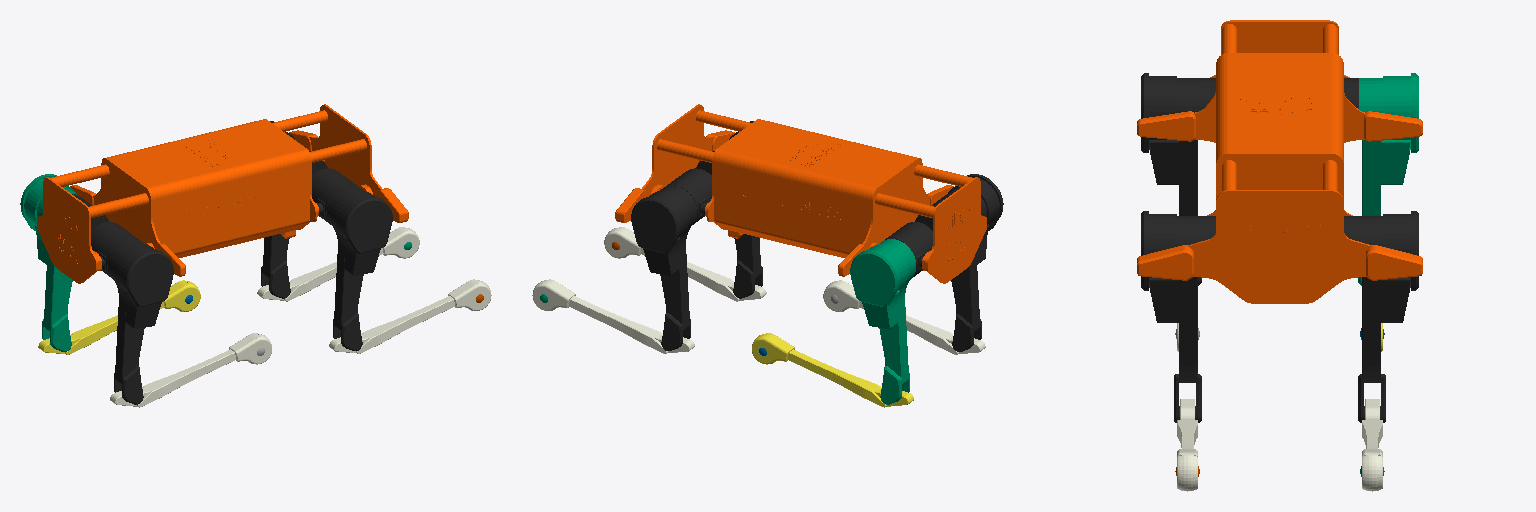
robot.urdf — laikago:
<?xml version="1.0" ?>
<!-- =================================================================================== -->
<!-- |    This document was autogenerated by xacro from robot.xacro                    | -->
<!-- |    EDITING THIS FILE BY HAND IS NOT RECOMMENDED                                 | -->
<!-- =================================================================================== -->
<robot name="laikago" xmlns:xacro="http://www.ros.org/wiki/xacro">
  <material name="black">
    <color rgba="0.0 0.0 0.0 1.0"/>
  </material>
  <material name="blue">
    <color rgba="0.0 0.0 0.8 1.0"/>
  </material>
  <material name="green">
    <color rgba="0.0 0.8 0.0 1.0"/>
  </material>
  <material name="grey">
    <color rgba="0.2 0.2 0.2 1.0"/>
  </material>
  <material name="silver">
    <color rgba="0.913725490196 0.913725490196 0.847058823529 1.0"/>
  </material>
  <material name="orange">
    <color rgba="1.0 0.423529411765 0.0392156862745 1.0"/>
  </material>
  <material name="brown">
    <color rgba="0.870588235294 0.811764705882 0.764705882353 1.0"/>
  </material>
  <material name="red">
    <color rgba="0.8 0.0 0.0 1.0"/>
  </material>
  <material name="white">
    <color rgba="1.0 1.0 1.0 1.0"/>
  </material>

  <link name="trunk">
    <visual>
      <origin rpy="0 0 0" xyz="0 0 0"/>
      <geometry>
        <mesh filename="package://example-robot-data/robots/laikago_description/meshes/trunk.obj" scale="1 1 1"/>
      </geometry>
      <material name="orange"/>
    </visual>
    <collision>
      <origin rpy="0 0 0" xyz="0 0 0.01675"/>
      <geometry>
        <box size="0.5616 0.172 0.1875"/>
      </geometry>
    </collision>
    <inertial>
      <origin rpy="0 0 0" xyz="0.002284 -4.1e-05 0.025165"/>
      <mass value="13.733"/>
      <inertia ixx="0.073348887" ixy="0.00030338" ixz="0.001918218" iyy="0.250684593" iyz="-7.5402e-05" izz="0.254469458"/>
    </inertial>
  </link>
  <joint name="FR_hip_joint" type="revolute">
    <origin rpy="0 0 0" xyz="0.21935 -0.0875 0"/>
    <parent link="trunk"/>
    <child link="FR_hip"/>
    <axis xyz="1 0 0"/>
    <dynamics damping="0" friction="0"/>
    <limit effort="20" lower="-1.0471975512" upper="0.872664625997" velocity="52.4"/>
  </joint>
  <link name="FR_hip">
    <visual>
      <origin rpy="3.14159265359 0 0" xyz="0 0 0"/>
      <geometry>
        <mesh filename="package://example-robot-data/robots/laikago_description/meshes/hip.obj" scale="1 1 1"/>
      </geometry>
      <material name="grey"/>
    </visual>
    <collision>
      <origin rpy="1.57079632679 0 0" xyz="0 0.021 0"/>
      <geometry>
        <cylinder length="0.08" radius="0.041"/>
      </geometry>
    </collision>
    <inertial>
      <origin rpy="0 0 0" xyz="-0.001568 0.008134 0.000864"/>
      <mass value="1.096"/>
      <inertia ixx="0.000822113" ixy="4.982e-06" ixz="-3.672e-05" iyy="0.000983196" iyz="-2.811e-06" izz="0.000864753"/>
    </inertial>
  </link>
  <joint name="FR_hip_fixed" type="fixed">
    <origin rpy="0 0 0" xyz="0 -0.059 0"/>
    <parent link="FR_hip"/>
    <child link="FR_thigh_shoulder"/>
  </joint>
  <!-- this link is only for collision -->
  <link name="FR_thigh_shoulder">
    <collision>
      <origin rpy="1.57079632679 0 0" xyz="0 0 0"/>
      <geometry>
        <cylinder length="0.08" radius="0.044"/>
      </geometry>
    </collision>
  </link>
  <joint name="FR_thigh_joint" type="revolute">
    <origin rpy="0 0 0" xyz="0 -0.037 0"/>
    <parent link="FR_hip"/>
    <child link="FR_thigh"/>
    <axis xyz="0 1 0"/>
    <dynamics damping="0" friction="0"/>
    <limit effort="55" lower="-0.523598775598" upper="3.92699081699" velocity="28.6"/>
  </joint>
  <link name="FR_thigh">
    <visual>
      <origin rpy="0 0 0" xyz="0 0 0"/>
      <geometry>
        <mesh filename="package://example-robot-data/robots/laikago_description/meshes/thigh_mirror.obj" scale="1 1 1"/>
      </geometry>
      <material name="grey"/>
    </visual>
    <collision>
      <origin rpy="0 1.57079632679 0" xyz="0 0 -0.125"/>
      <geometry>
        <box size="0.25 0.034 0.043"/>
      </geometry>
    </collision>
    <inertial>
      <origin rpy="0 0 0" xyz="-0.000482 -0.02001 -0.031996"/>
      <mass value="1.528"/>
      <inertia ixx="0.00991611" ixy="-1.0388e-05" ixz="0.000250428" iyy="0.009280083" iyz="8.511e-05" izz="0.00178256"/>
    </inertial>
  </link>
  <joint name="FR_calf_joint" type="revolute">
    <origin rpy="0 0 0" xyz="0 0 -0.25"/>
    <parent link="FR_thigh"/>
    <child link="FR_calf"/>
    <axis xyz="0 1 0"/>
    <dynamics damping="0" friction="0"/>
    <limit effort="55" lower="-2.77507351067" upper="-0.610865238198" velocity="28.6"/>
  </joint>
  <link name="FR_calf">
    <visual>
      <origin rpy="0 0 0" xyz="0 0 0"/>
      <geometry>
        <mesh filename="package://example-robot-data/robots/laikago_description/meshes/calf.obj" scale="1 1 1"/>
      </geometry>
      <material name="silver"/>
    </visual>
    <collision>
      <origin rpy="0 1.57079632679 0" xyz="0 0 -0.125"/>
      <geometry>
        <box size="0.25 0.016 0.016"/>
      </geometry>
    </collision>
    <inertial>
      <origin rpy="0 0 0" xyz="-0.002196 -0.000381 -0.12338"/>
      <mass value="0.241"/>
      <inertia ixx="0.006181961" ixy="2.37e-07" ixz="-2.985e-06" iyy="0.006196546" iyz="5.138e-06" izz="3.4774e-05"/>
    </inertial>
  </link>
  <joint name="FR_foot_fixed" type="fixed">
    <origin rpy="0 0 0" xyz="0 0 -0.25"/>
    <parent link="FR_calf"/>
    <child link="FR_foot"/>
  </joint>
  <link name="FR_foot">
    <visual>
      <origin rpy="0 0 0" xyz="0 0 0"/>
      <geometry>
        <sphere radius="0.0165"/>
      </geometry>
    </visual>
    <collision>
      <origin rpy="0 0 0" xyz="0 0 0"/>
      <geometry>
        <sphere radius="0.0265"/>
      </geometry>
    </collision>
    <inertial>
      <mass value="0.06"/>
      <inertia ixx="1.6854e-05" ixy="0.0" ixz="0.0" iyy="1.6854e-05" iyz="0.0" izz="1.6854e-05"/>
    </inertial>
  </link>

  <joint name="FL_hip_joint" type="revolute">
    <origin rpy="0 0 0" xyz="0.21935 0.0875 0"/>
    <parent link="trunk"/>
    <child link="FL_hip"/>
    <axis xyz="1 0 0"/>
    <dynamics damping="0" friction="0"/>
    <limit effort="20" lower="-0.872664625997" upper="1.0471975512" velocity="52.4"/>
  </joint>
  <link name="FL_hip">
    <visual>
      <origin rpy="0 0 0" xyz="0 0 0"/>
      <geometry>
        <mesh filename="package://example-robot-data/robots/laikago_description/meshes/hip.obj" scale="1 1 1"/>
      </geometry>
      <material name="grey"/>
    </visual>
    <collision>
      <origin rpy="1.57079632679 0 0" xyz="0 -0.021 0"/>
      <geometry>
        <cylinder length="0.08" radius="0.041"/>
      </geometry>
    </collision>
    <inertial>
      <origin rpy="0 0 0" xyz="-0.001568 -0.008134 0.000864"/>
      <mass value="1.096"/>
      <inertia ixx="0.000822113" ixy="-4.982e-06" ixz="-3.672e-05" iyy="0.000983196" iyz="2.811e-06" izz="0.000864753"/>
    </inertial>
  </link>
  <joint name="FL_hip_fixed" type="fixed">
    <origin rpy="0 0 0" xyz="0 0.059 0"/>
    <parent link="FL_hip"/>
    <child link="FL_thigh_shoulder"/>
  </joint>
  <!-- this link is only for collision -->
  <link name="FL_thigh_shoulder">
    <collision>
      <origin rpy="1.57079632679 0 0" xyz="0 0 0"/>
      <geometry>
        <cylinder length="0.08" radius="0.044"/>
      </geometry>
    </collision>
  </link>
  <joint name="FL_thigh_joint" type="revolute">
    <origin rpy="0 0 0" xyz="0 0.037 0"/>
    <parent link="FL_hip"/>
    <child link="FL_thigh"/>
    <axis xyz="0 1 0"/>
    <dynamics damping="0" friction="0"/>
    <limit effort="55" lower="-0.523598775598" upper="3.92699081699" velocity="28.6"/>
  </joint>
  <link name="FL_thigh">
    <visual>
      <origin rpy="0 0 0" xyz="0 0 0"/>
      <geometry>
        <mesh filename="package://example-robot-data/robots/laikago_description/meshes/thigh.obj" scale="1 1 1"/>
      </geometry>
      <material name="grey"/>
    </visual>
    <collision>
      <origin rpy="0 1.57079632679 0" xyz="0 0 -0.125"/>
      <geometry>
        <box size="0.25 0.034 0.043"/>
      </geometry>
    </collision>
    <inertial>
      <origin rpy="0 0 0" xyz="-0.000482 0.02001 -0.031996"/>
      <mass value="1.528"/>
      <inertia ixx="0.00991611" ixy="1.0388e-05" ixz="0.000250428" iyy="0.009280083" iyz="-8.511e-05" izz="0.00178256"/>
    </inertial>
  </link>
  <joint name="FL_calf_joint" type="revolute">
    <origin rpy="0 0 0" xyz="0 0 -0.25"/>
    <parent link="FL_thigh"/>
    <child link="FL_calf"/>
    <axis xyz="0 1 0"/>
    <dynamics damping="0" friction="0"/>
    <limit effort="55" lower="-2.77507351067" upper="-0.610865238198" velocity="28.6"/>
  </joint>
  <link name="FL_calf">
    <visual>
      <origin rpy="0 0 0" xyz="0 0 0"/>
      <geometry>
        <mesh filename="package://example-robot-data/robots/laikago_description/meshes/calf.obj" scale="1 1 1"/>
      </geometry>
      <material name="silver"/>
    </visual>
    <collision>
      <origin rpy="0 1.57079632679 0" xyz="0 0 -0.125"/>
      <geometry>
        <box size="0.25 0.016 0.016"/>
      </geometry>
    </collision>
    <inertial>
      <origin rpy="0 0 0" xyz="-0.002196 -0.000381 -0.12338"/>
      <mass value="0.241"/>
      <inertia ixx="0.006181961" ixy="2.37e-07" ixz="-2.985e-06" iyy="0.006196546" iyz="5.138e-06" izz="3.4774e-05"/>
    </inertial>
  </link>
  <joint name="FL_foot_fixed" type="fixed">
    <origin rpy="0 0 0" xyz="0 0 -0.25"/>
    <parent link="FL_calf"/>
    <child link="FL_foot"/>
  </joint>
  <link name="FL_foot">
    <visual>
      <origin rpy="0 0 0" xyz="0 0 0"/>
      <geometry>
        <sphere radius="0.0165"/>
      </geometry>
    </visual>
    <collision>
      <origin rpy="0 0 0" xyz="0 0 0"/>
      <geometry>
        <sphere radius="0.0265"/>
      </geometry>
    </collision>
    <inertial>
      <mass value="0.06"/>
      <inertia ixx="1.6854e-05" ixy="0.0" ixz="0.0" iyy="1.6854e-05" iyz="0.0" izz="1.6854e-05"/>
    </inertial>
  </link>

  <joint name="RR_hip_joint" type="revolute">
    <origin rpy="0 0 0" xyz="-0.21935 -0.0875 0"/>
    <parent link="trunk"/>
    <child link="RR_hip"/>
    <axis xyz="1 0 0"/>
    <dynamics damping="0" friction="0"/>
    <limit effort="20" lower="-1.0471975512" upper="0.872664625997" velocity="52.4"/>
  </joint>
  <link name="RR_hip">
    <visual>
      <origin rpy="3.14159265359 3.14159265359 0" xyz="0 0 0"/>
      <geometry>
        <mesh filename="package://example-robot-data/robots/laikago_description/meshes/hip.obj" scale="1 1 1"/>
      </geometry>
      <material name="grey"/>
    </visual>
    <collision>
      <origin rpy="1.57079632679 0 0" xyz="0 0.021 0"/>
      <geometry>
        <cylinder length="0.08" radius="0.041"/>
      </geometry>
    </collision>
    <inertial>
      <origin rpy="0 0 0" xyz="0.001568 0.008134 0.000864"/>
      <mass value="1.096"/>
      <inertia ixx="0.000822113" ixy="-4.982e-06" ixz="3.672e-05" iyy="0.000983196" iyz="-2.811e-06" izz="0.000864753"/>
    </inertial>
  </link>
  <joint name="RR_hip_fixed" type="fixed">
    <origin rpy="0 0 0" xyz="0 -0.059 0"/>
    <parent link="RR_hip"/>
    <child link="RR_thigh_shoulder"/>
  </joint>
  <!-- this link is only for collision -->
  <link name="RR_thigh_shoulder">
    <collision>
      <origin rpy="1.57079632679 0 0" xyz="0 0 0"/>
      <geometry>
        <cylinder length="0.08" radius="0.044"/>
      </geometry>
    </collision>
  </link>
  <joint name="RR_thigh_joint" type="revolute">
    <origin rpy="0 0 0" xyz="0 -0.037 0"/>
    <parent link="RR_hip"/>
    <child link="RR_thigh"/>
    <axis xyz="0 1 0"/>
    <dynamics damping="0" friction="0"/>
    <limit effort="55" lower="-0.523598775598" upper="3.92699081699" velocity="28.6"/>
  </joint>
  <link name="RR_thigh">
    <visual>
      <origin rpy="0 0 0" xyz="0 0 0"/>
      <geometry>
        <mesh filename="package://example-robot-data/robots/laikago_description/meshes/thigh_mirror.obj" scale="1 1 1"/>
      </geometry>
      <material name="grey"/>
    </visual>
    <collision>
      <origin rpy="0 1.57079632679 0" xyz="0 0 -0.125"/>
      <geometry>
        <box size="0.25 0.034 0.043"/>
      </geometry>
    </collision>
    <inertial>
      <origin rpy="0 0 0" xyz="-0.000482 -0.02001 -0.031996"/>
      <mass value="1.528"/>
      <inertia ixx="0.00991611" ixy="-1.0388e-05" ixz="0.000250428" iyy="0.009280083" iyz="8.511e-05" izz="0.00178256"/>
    </inertial>
  </link>
  <joint name="RR_calf_joint" type="revolute">
    <origin rpy="0 0 0" xyz="0 0 -0.25"/>
    <parent link="RR_thigh"/>
    <child link="RR_calf"/>
    <axis xyz="0 1 0"/>
    <dynamics damping="0" friction="0"/>
    <limit effort="55" lower="-2.77507351067" upper="-0.610865238198" velocity="28.6"/>
  </joint>
  <link name="RR_calf">
    <visual>
      <origin rpy="0 0 0" xyz="0 0 0"/>
      <geometry>
        <mesh filename="package://example-robot-data/robots/laikago_description/meshes/calf.obj" scale="1 1 1"/>
      </geometry>
      <material name="silver"/>
    </visual>
    <collision>
      <origin rpy="0 1.57079632679 0" xyz="0 0 -0.125"/>
      <geometry>
        <box size="0.25 0.016 0.016"/>
      </geometry>
    </collision>
    <inertial>
      <origin rpy="0 0 0" xyz="-0.002196 -0.000381 -0.12338"/>
      <mass value="0.241"/>
      <inertia ixx="0.006181961" ixy="2.37e-07" ixz="-2.985e-06" iyy="0.006196546" iyz="5.138e-06" izz="3.4774e-05"/>
    </inertial>
  </link>
  <joint name="RR_foot_fixed" type="fixed">
    <origin rpy="0 0 0" xyz="0 0 -0.25"/>
    <parent link="RR_calf"/>
    <child link="RR_foot"/>
  </joint>
  <link name="RR_foot">
    <visual>
      <origin rpy="0 0 0" xyz="0 0 0"/>
      <geometry>
        <sphere radius="0.0165"/>
      </geometry>
    </visual>
    <collision>
      <origin rpy="0 0 0" xyz="0 0 0"/>
      <geometry>
        <sphere radius="0.0265"/>
      </geometry>
    </collision>
    <inertial>
      <mass value="0.06"/>
      <inertia ixx="1.6854e-05" ixy="0.0" ixz="0.0" iyy="1.6854e-05" iyz="0.0" izz="1.6854e-05"/>
    </inertial>
  </link>

  <joint name="RL_hip_joint" type="revolute">
    <origin rpy="0 0 0" xyz="-0.21935 0.0875 0"/>
    <parent link="trunk"/>
    <child link="RL_hip"/>
    <axis xyz="1 0 0"/>
    <dynamics damping="0" friction="0"/>
    <limit effort="20" lower="-0.872664625997" upper="1.0471975512" velocity="52.4"/>
  </joint>
  <link name="RL_hip">
    <visual>
      <origin rpy="0 3.14159265359 0" xyz="0 0 0"/>
      <geometry>
        <mesh filename="package://example-robot-data/robots/laikago_description/meshes/hip.obj" scale="1 1 1"/>
      </geometry>
      <material name="grey"/>
    </visual>
    <collision>
      <origin rpy="1.57079632679 0 0" xyz="0 -0.021 0"/>
      <geometry>
        <cylinder length="0.08" radius="0.041"/>
      </geometry>
    </collision>
    <inertial>
      <origin rpy="0 0 0" xyz="0.001568 -0.008134 0.000864"/>
      <mass value="1.096"/>
      <inertia ixx="0.000822113" ixy="4.982e-06" ixz="3.672e-05" iyy="0.000983196" iyz="2.811e-06" izz="0.000864753"/>
    </inertial>
  </link>
  <joint name="RL_hip_fixed" type="fixed">
    <origin rpy="0 0 0" xyz="0 0.059 0"/>
    <parent link="RL_hip"/>
    <child link="RL_thigh_shoulder"/>
  </joint>
  <!-- this link is only for collision -->
  <link name="RL_thigh_shoulder">
    <collision>
      <origin rpy="1.57079632679 0 0" xyz="0 0 0"/>
      <geometry>
        <cylinder length="0.08" radius="0.044"/>
      </geometry>
    </collision>
  </link>
  <joint name="RL_thigh_joint" type="revolute">
    <origin rpy="0 0 0" xyz="0 0.037 0"/>
    <parent link="RL_hip"/>
    <child link="RL_thigh"/>
    <axis xyz="0 1 0"/>
    <dynamics damping="0" friction="0"/>
    <limit effort="55" lower="-0.523598775598" upper="3.92699081699" velocity="28.6"/>
  </joint>
  <link name="RL_thigh">
    <visual>
      <origin rpy="0 0 0" xyz="0 0 0"/>
      <geometry>
        <mesh filename="package://example-robot-data/robots/laikago_description/meshes/thigh.obj" scale="1 1 1"/>
      </geometry>
    </visual>
    <collision>
      <origin rpy="0 1.57079632679 0" xyz="0 0 -0.125"/>
      <geometry>
        <box size="0.25 0.034 0.043"/>
      </geometry>
    </collision>
    <inertial>
      <origin rpy="0 0 0" xyz="-0.000482 0.02001 -0.031996"/>
      <mass value="1.528"/>
      <inertia ixx="0.00991611" ixy="1.0388e-05" ixz="0.000250428" iyy="0.009280083" iyz="-8.511e-05" izz="0.00178256"/>
    </inertial>
  </link>
  <joint name="RL_calf_joint" type="revolute">
    <origin rpy="0 0 0" xyz="0 0 -0.25"/>
    <parent link="RL_thigh"/>
    <child link="RL_calf"/>
    <axis xyz="0 1 0"/>
    <dynamics damping="0" friction="0"/>
    <limit effort="55" lower="-2.77507351067" upper="-0.610865238198" velocity="28.6"/>
  </joint>
  <link name="RL_calf">
    <visual>
      <origin rpy="0 0 0" xyz="0 0 0"/>
      <geometry>
        <mesh filename="package://example-robot-data/robots/laikago_description/meshes/calf.obj" scale="1 1 1"/>
      </geometry>
    </visual>
    <collision>
      <origin rpy="0 1.57079632679 0" xyz="0 0 -0.125"/>
      <geometry>
        <box size="0.25 0.016 0.016"/>
      </geometry>
    </collision>
    <inertial>
      <origin rpy="0 0 0" xyz="-0.002196 -0.000381 -0.12338"/>
      <mass value="0.241"/>
      <inertia ixx="0.006181961" ixy="2.37e-07" ixz="-2.985e-06" iyy="0.006196546" iyz="5.138e-06" izz="3.4774e-05"/>
    </inertial>
  </link>
  <joint name="RL_foot_fixed" type="fixed">
    <origin rpy="0 0 0" xyz="0 0 -0.25"/>
    <parent link="RL_calf"/>
    <child link="RL_foot"/>
  </joint>
  <link name="RL_foot">
    <visual>
      <origin rpy="0 0 0" xyz="0 0 0"/>
      <geometry>
        <sphere radius="0.0165"/>
      </geometry>
    </visual>
    <collision>
      <origin rpy="0 0 0" xyz="0 0 0"/>
      <geometry>
        <sphere radius="0.0265"/>
      </geometry>
    </collision>
    <inertial>
      <mass value="0.06"/>
      <inertia ixx="1.6854e-05" ixy="0.0" ixz="0.0" iyy="1.6854e-05" iyz="0.0" izz="1.6854e-05"/>
    </inertial>
  </link>
</robot>

--- Facts derived from the render (not from the file) ---
The picture shows the robot from 3 angles, left to right: view 1: azimuth 30°, elevation 25°; view 2: azimuth 150°, elevation 25°; view 3: azimuth 270°, elevation 25°; orthographic projection.
Model laikago with 21 links and 20 joints (12 revolute, 8 fixed), rooted at trunk, posed joints at zero except 4 at the middle of their limits (FR_calf_joint = -1.69, FL_calf_joint = -1.69, RR_calf_joint = -1.69, RL_calf_joint = -1.69).
Visible links, largest first — view 1: trunk, FR_thigh, RR_thigh, RL_thigh, FR_calf, RR_calf, FL_calf, RL_calf, FL_thigh, FR_hip, RR_hip; view 2: trunk, FL_thigh, RL_thigh, RR_thigh, FL_calf, RL_calf, FR_calf, RR_calf, FR_thigh, FL_hip, RL_hip; view 3: trunk, FR_thigh, FL_thigh, RR_thigh, RL_thigh, FR_calf, FL_calf.
Link boxes in pixels (x1=…): trunk: x1=37, y1=104, x2=408, y2=283; FR_thigh: x1=327, y1=185, x2=392, y2=350; RR_thigh: x1=108, y1=239, x2=173, y2=404; RL_thigh: x1=20, y1=174, x2=78, y2=351; FR_calf: x1=329, y1=279, x2=491, y2=353; RR_calf: x1=110, y1=333, x2=271, y2=407; FL_calf: x1=257, y1=227, x2=419, y2=301; RL_calf: x1=38, y1=280, x2=200, y2=354; FL_thigh: x1=261, y1=121, x2=294, y2=298; FR_hip: x1=312, y1=168, x2=356, y2=224; RR_hip: x1=91, y1=222, x2=138, y2=277; trunk: x1=615, y1=104, x2=986, y2=283; FL_thigh: x1=631, y1=185, x2=696, y2=350; RL_thigh: x1=850, y1=239, x2=915, y2=404; RR_thigh: x1=945, y1=174, x2=1003, y2=351; FL_calf: x1=532, y1=279, x2=694, y2=353; RL_calf: x1=752, y1=333, x2=913, y2=407; FR_calf: x1=604, y1=227, x2=766, y2=301; RR_calf: x1=823, y1=280, x2=985, y2=354; FR_thigh: x1=729, y1=121, x2=762, y2=298; FL_hip: x1=667, y1=168, x2=711, y2=224; RL_hip: x1=885, y1=222, x2=932, y2=277; trunk: x1=1137, y1=20, x2=1422, y2=303; FR_thigh: x1=1141, y1=211, x2=1201, y2=422; FL_thigh: x1=1358, y1=211, x2=1418, y2=422; RR_thigh: x1=1141, y1=73, x2=1201, y2=285; RL_thigh: x1=1358, y1=73, x2=1418, y2=285; FR_calf: x1=1177, y1=399, x2=1197, y2=491; FL_calf: x1=1362, y1=399, x2=1382, y2=491.
Bounding box of the posed robot: 0.7755 × 0.386 × 0.3808 m (x, y, z).
13 mesh visuals loaded from 5 distinct referenced files (5 OBJ).